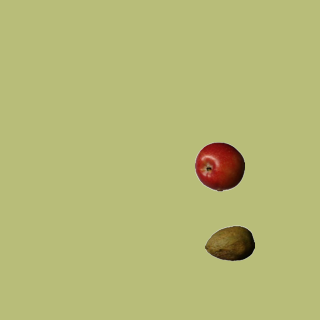Apple Braeburn: (194, 141, 244, 191)
Papaya: (204, 218, 254, 268)
